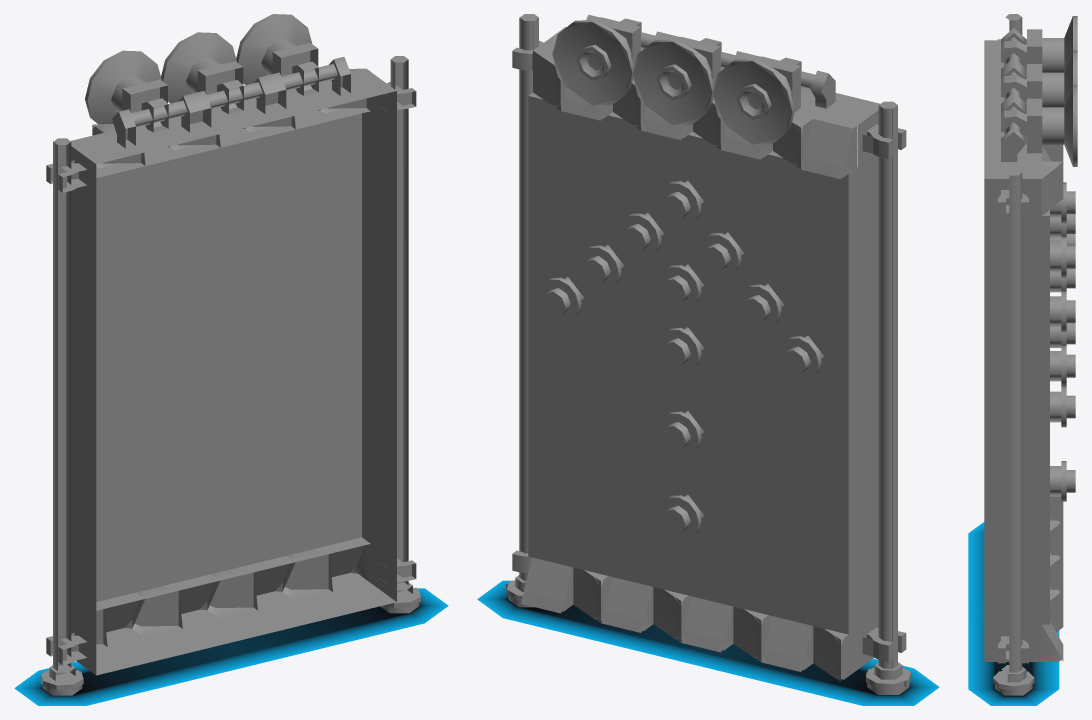
File: Custom_Barrier_High.fbx
3 renders of one model, left to right at view 1: azimuth 30°, elevation 25°; view 2: azimuth 150°, elevation 25°; view 3: azimuth 270°, elevation 25°, orthographic. The views are drawn at different scales.
Visible parts, largest first — view 1: Custom_Barrier_High_LOD, Custom_Barrier_High, Custom_Barrier_High_Shadow; view 2: Custom_Barrier_High_LOD, Custom_Barrier_High, Custom_Barrier_High_Shadow; view 3: Custom_Barrier_High, Custom_Barrier_High_Shadow.
Boxes of the visible parts, x1,y1,x2,y2 form: Custom_Barrier_High_LOD: [41, 62, 416, 683]; Custom_Barrier_High: [41, 14, 420, 695]; Custom_Barrier_High_Shadow: [14, 588, 448, 705]; Custom_Barrier_High_LOD: [506, 17, 906, 686]; Custom_Barrier_High: [506, 14, 911, 694]; Custom_Barrier_High_Shadow: [477, 580, 939, 705]; Custom_Barrier_High: [984, 14, 1077, 695]; Custom_Barrier_High_Shadow: [968, 522, 1059, 705].
Bounding box in the file's own units: 2.7 × 3.74 × 0.6615.
